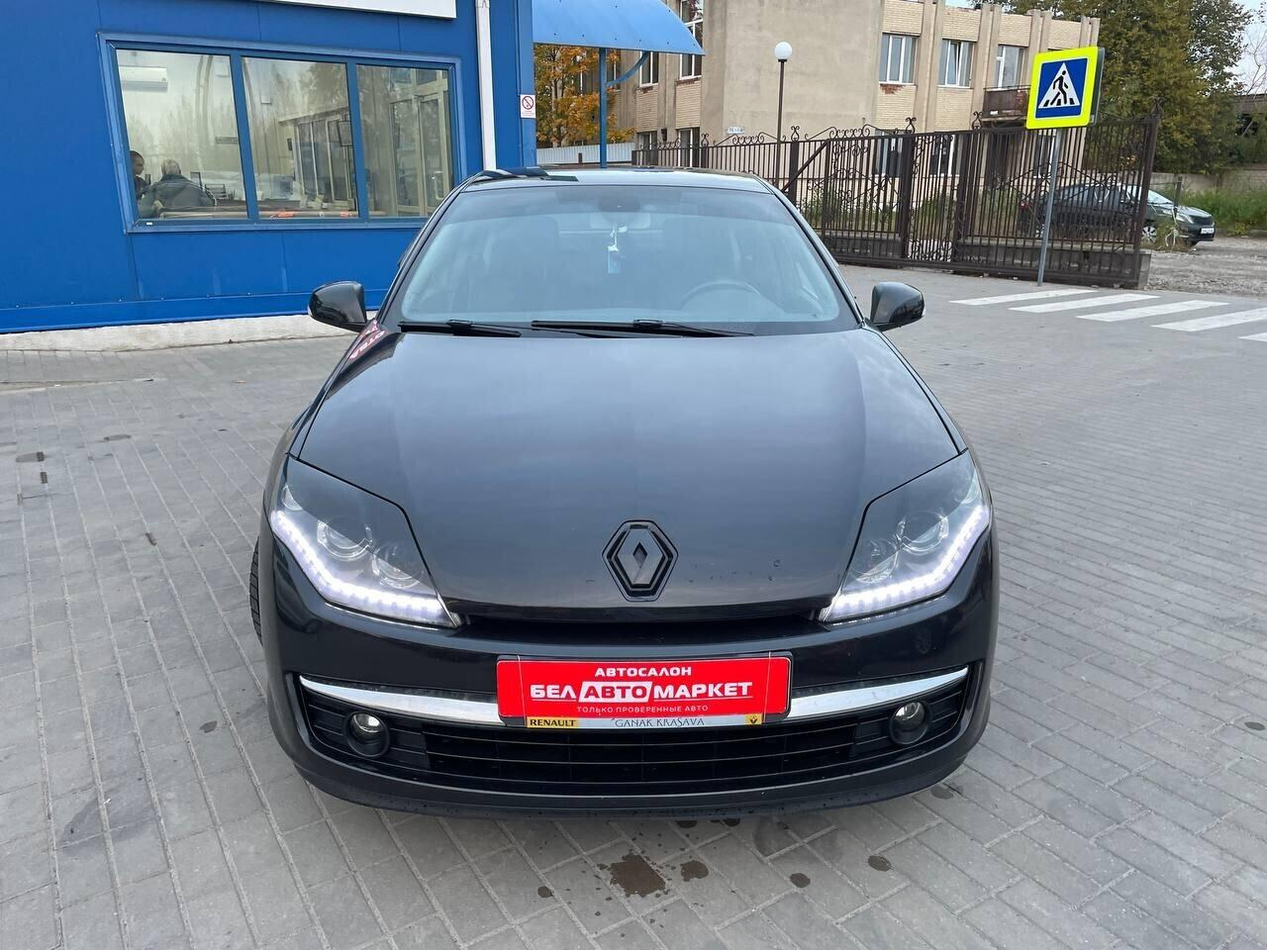Laguna_2010-2015: (254, 150, 1012, 805)
